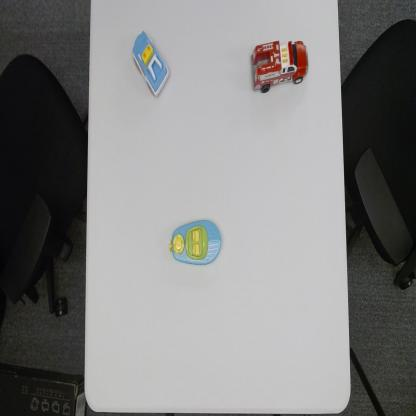Boat: (167, 215, 223, 269)
Car: (130, 29, 170, 99)
Firetruck: (249, 37, 309, 96)
